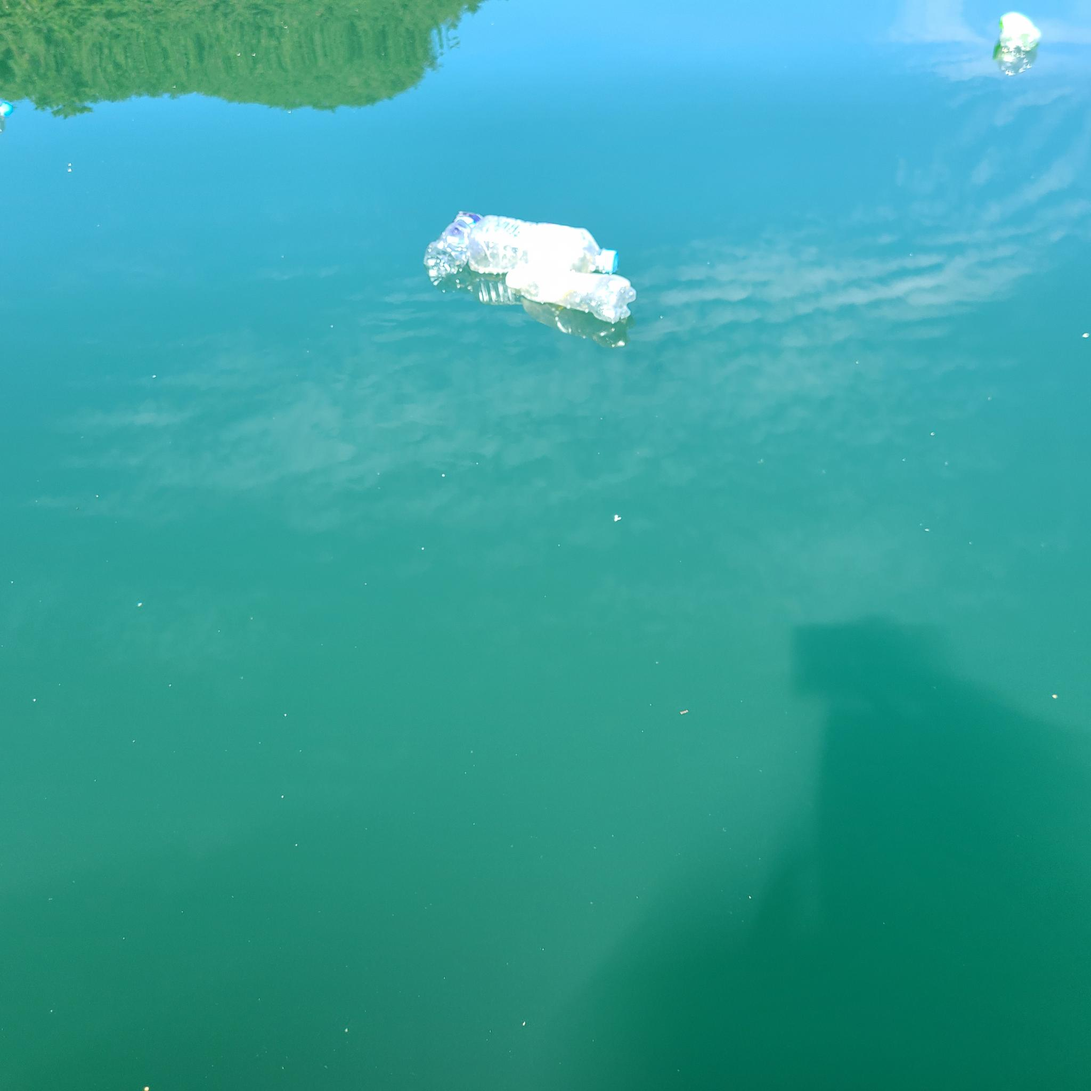sampah_terapung: (469, 215, 618, 275), (506, 267, 637, 323), (425, 212, 485, 278), (1000, 12, 1042, 52)
